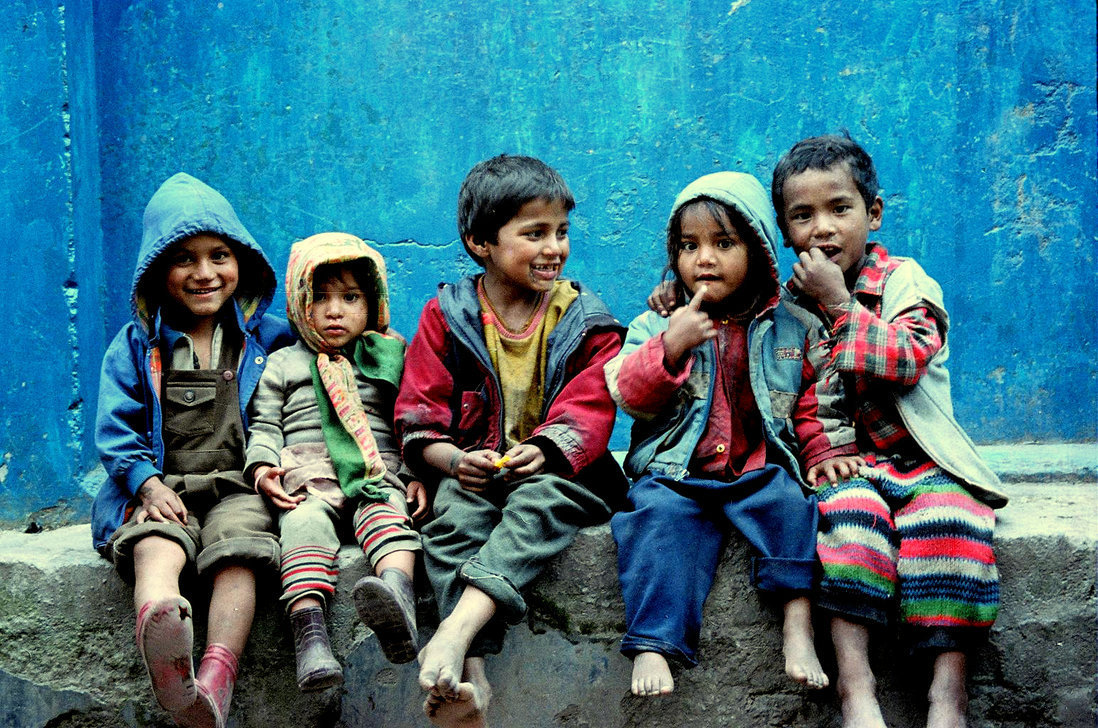human: (760, 129, 1003, 728), (391, 138, 631, 728), (614, 160, 827, 707), (85, 153, 274, 727), (237, 217, 435, 710)
